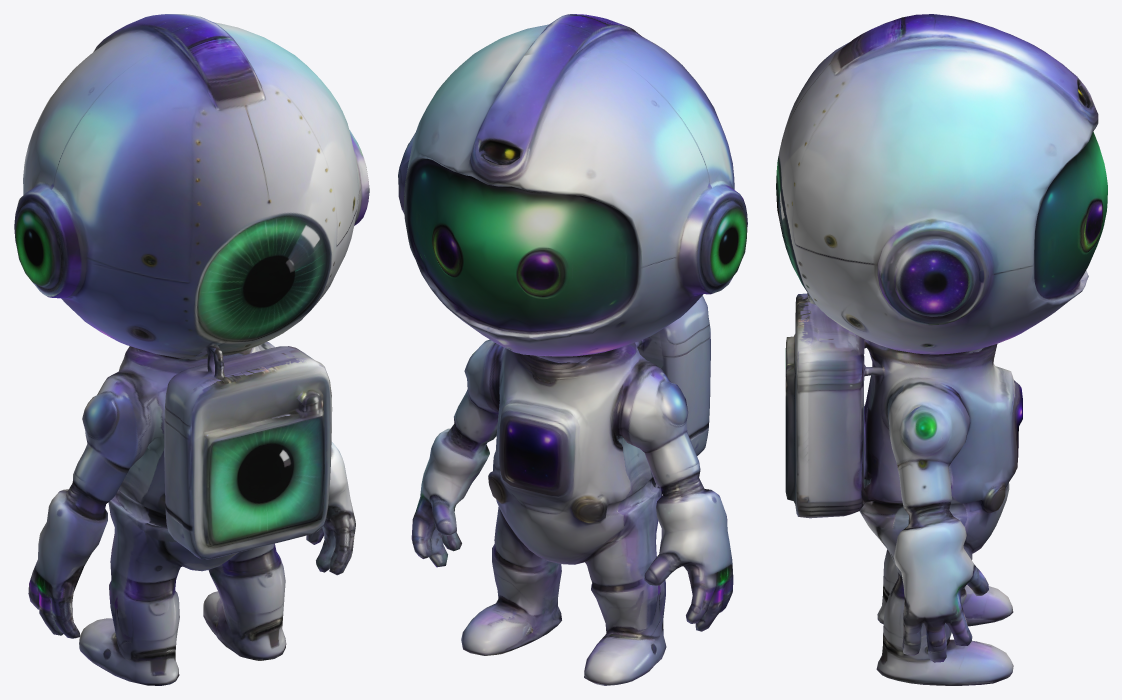
File: demos.glb
3 renders of one model, left to right at view 1: azimuth 30°, elevation 25°; view 2: azimuth 150°, elevation 25°; view 3: azimuth 270°, elevation 25°, orthographic.
Size of the model in its own units: 1.06 by 2 by 0.961.
Materials: 1 (1 with a texture image).
